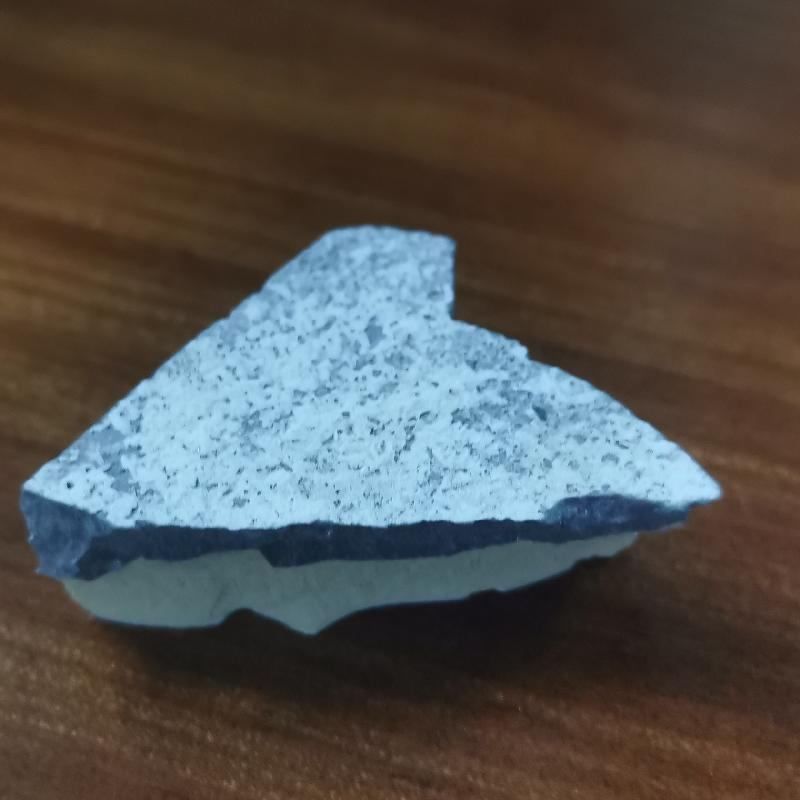tile: (19, 221, 728, 647)
